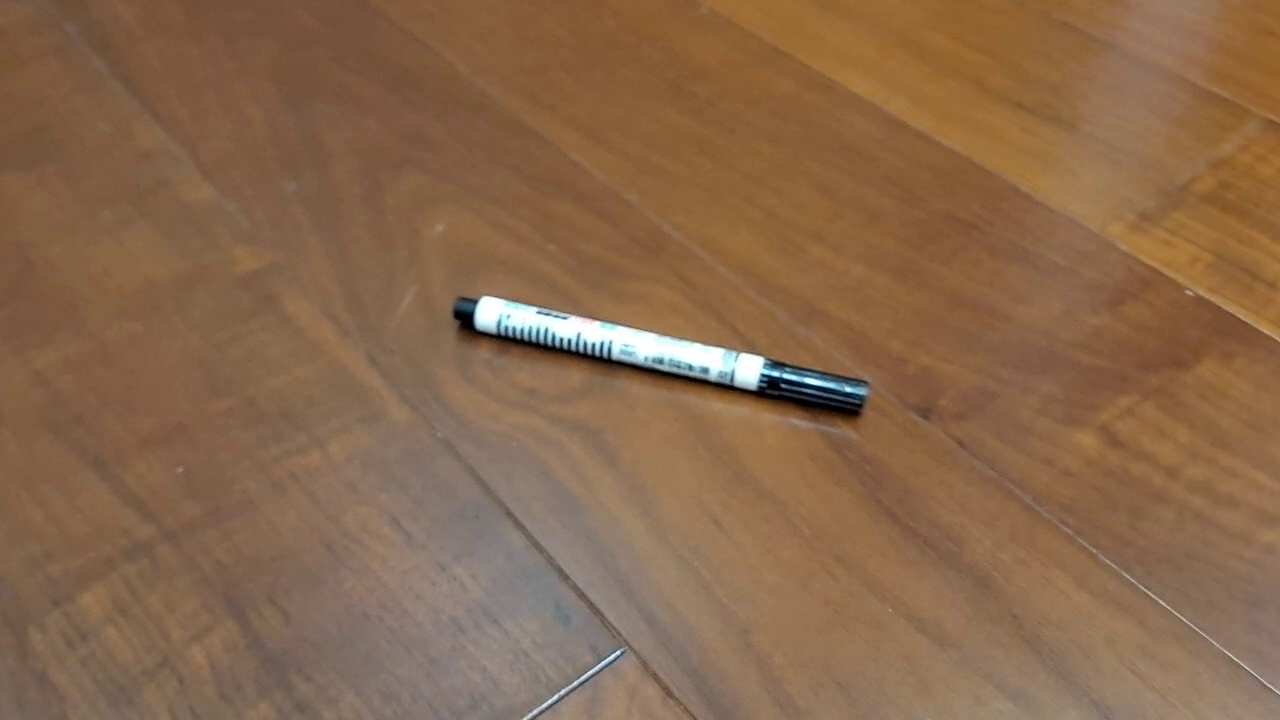pen: (452, 294, 872, 418)
